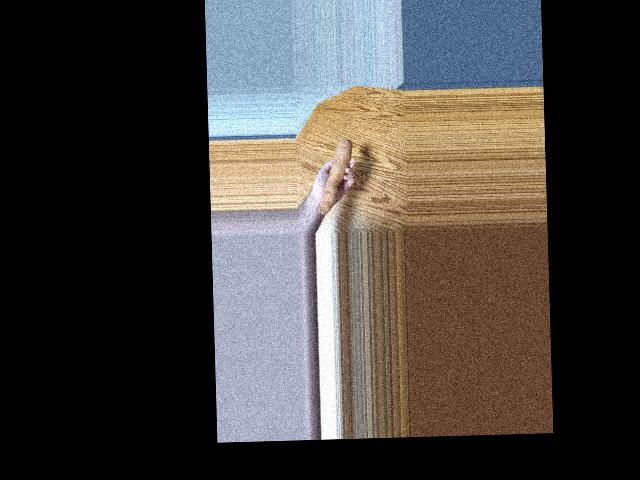sweet_potato: (317, 137, 355, 212)
